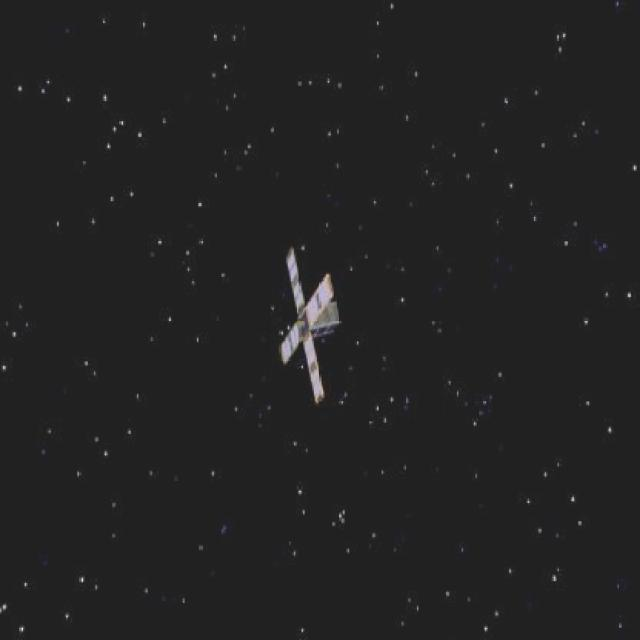satellite: (271, 248, 340, 417)
